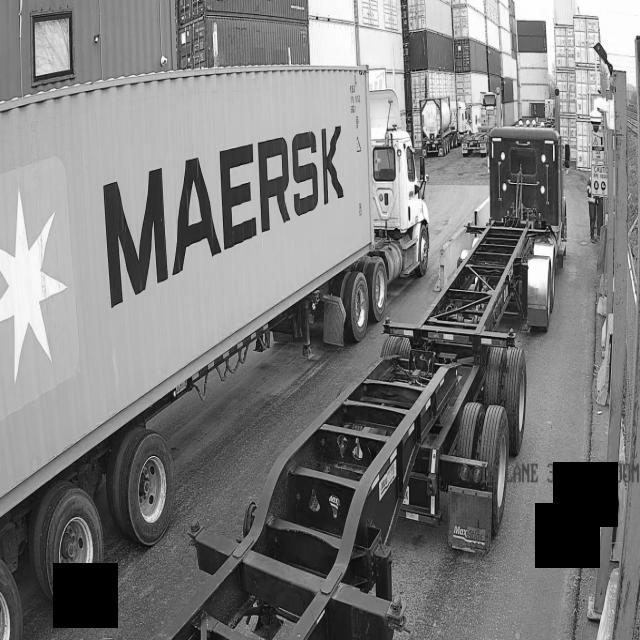container_company_logo: (99, 104, 350, 323)
truck_with_container: (0, 68, 430, 415)
truck_without_container: (155, 124, 568, 640)
